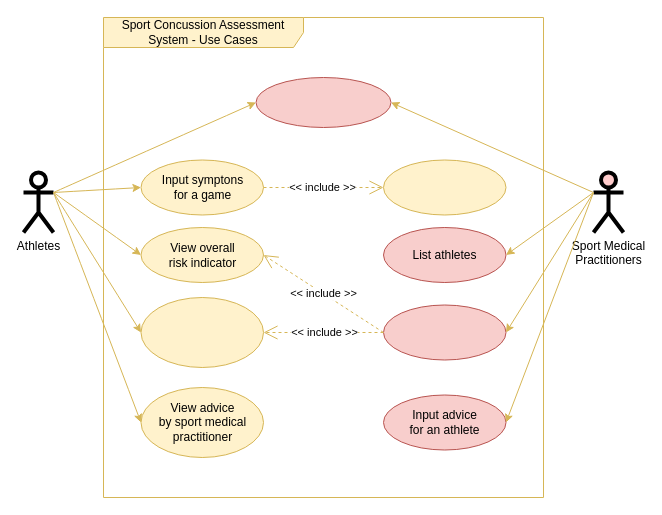
Image size: 662x515. Some labels were removed from this diagram. The shapes that lost their labels are listed below. From the top down, each one's centre as x and y in pixels, then its label:
At (323,102): "Login/Create user".
At (444,187): "Save 5 most recent games".
At (202,332): "View symptons summary for 5 most recent games".
At (444,332): "View athlete".
